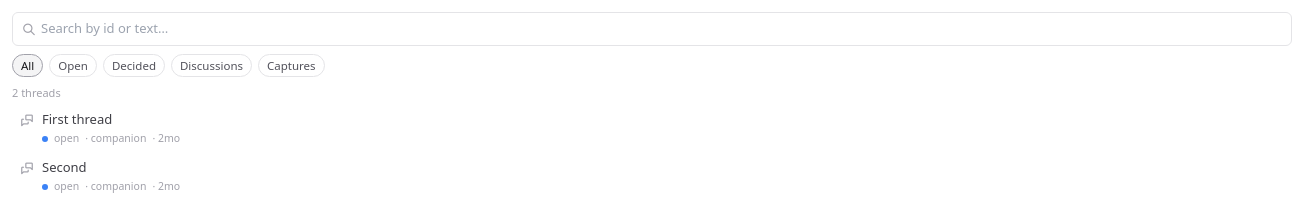
Test case: ConversationList › searches by conversation id, which is never shown in the row
Type "conv-1" into the field named "Search conversations". click: (652, 29)
box: [12, 12, 1292, 46]
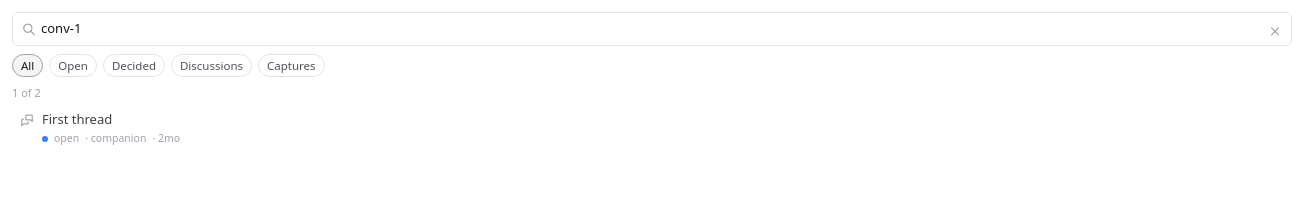
Check: the text "First thread" is shown, box [42, 110, 112, 128]
Check: the button "Second" is gone
